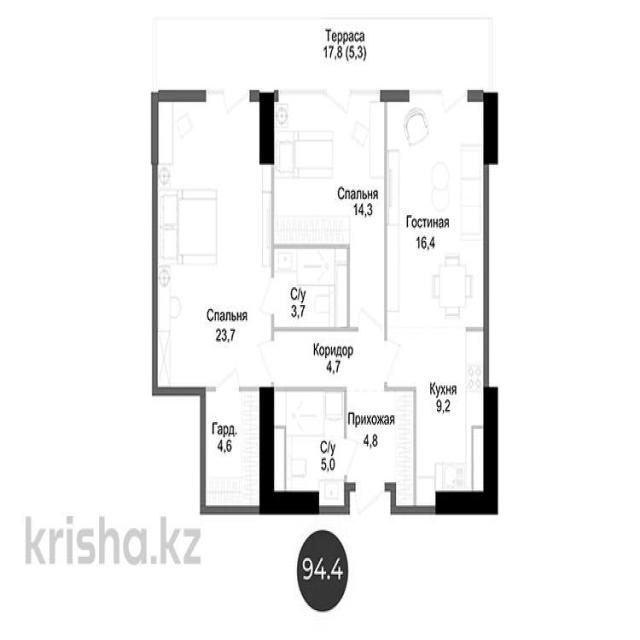balcony: (154, 18, 494, 104)
bathroom: (274, 395, 344, 509), (276, 250, 351, 330)
hallway: (348, 394, 412, 511), (286, 337, 386, 384)
kitchen: (416, 335, 492, 506)
living_room: (155, 98, 278, 392), (386, 96, 489, 327), (278, 114, 380, 247)
other: (202, 394, 270, 510)
